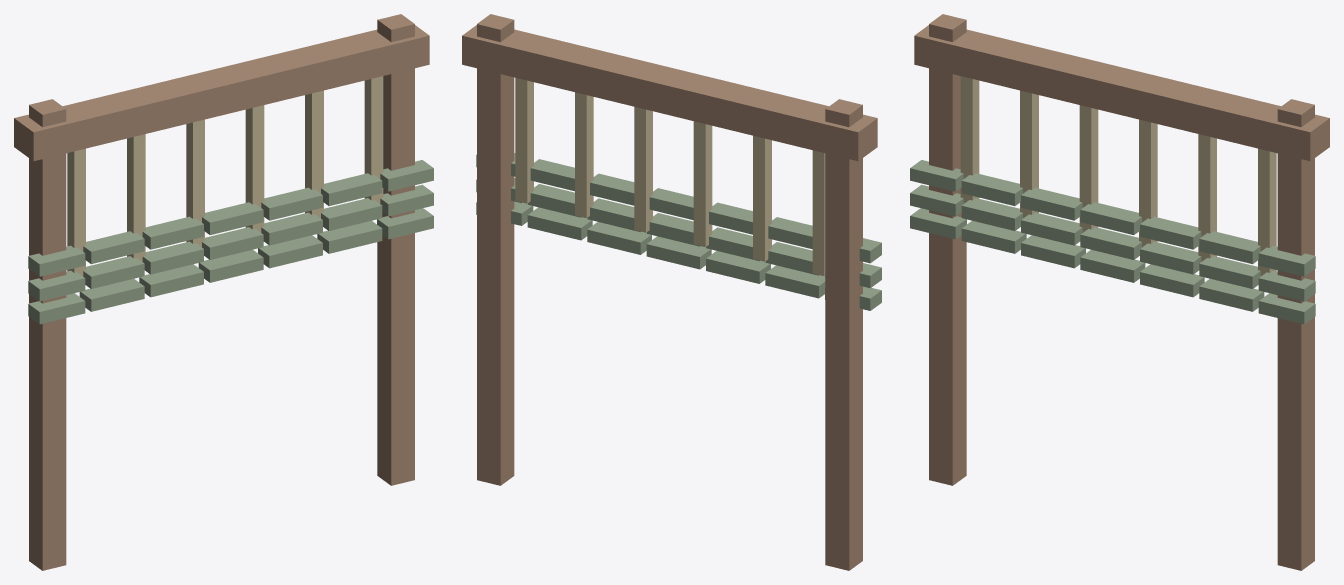
File: herb_drying_rack.glb
The picture shows the model from 3 angles, left to right: view 1: azimuth 30°, elevation 25°; view 2: azimuth 150°, elevation 25°; view 3: azimuth 330°, elevation 25°; orthographic projection.
Parts seen in each view (by area): view 1: box_2, box_0, box_1, box_38, box_24, box_10, box_3, box_31, box_17, box_12, box_7, box_5 (+29 smaller); view 2: box_2, box_0, box_1, box_17, box_10, box_24, box_38, box_31, box_3, box_37, box_9, box_34 (+24 smaller); view 3: box_2, box_1, box_0, box_3, box_17, box_31, box_38, box_10, box_24, box_40, box_44, box_42 (+31 smaller).
Boxes of the visible parts, x1,y1,x2,y2 form: box_2: (14,25,429,161); box_0: (29,99,66,570); box_1: (377,14,414,485); box_38: (364,76,383,203); box_24: (245,105,264,232); box_10: (127,134,145,261); box_3: (67,148,85,276); box_31: (305,90,323,218); box_17: (186,119,204,247); box_12: (142,218,196,249); box_7: (83,257,136,288); box_5: (83,232,136,264); box_2: (462,25,877,161); box_0: (825,99,862,570); box_1: (477,14,514,485); box_17: (693,121,712,247); box_10: (753,135,771,261); box_24: (634,107,652,232); box_38: (515,77,533,203); box_31: (575,92,593,218); box_3: (812,150,825,276); box_37: (535,209,592,240); box_9: (773,267,825,298); box_34: (587,198,634,230); box_2: (914,25,1329,161); box_1: (1277,99,1314,570); box_0: (929,14,966,485); box_3: (960,76,979,203); box_17: (1079,105,1098,232); box_31: (1198,134,1216,261); box_38: (1258,148,1276,276); box_10: (1020,90,1038,218); box_24: (1139,119,1157,247); box_40: (1258,245,1315,276); box_44: (1258,293,1315,324); box_42: (1258,270,1315,301).
Size of the model in its own units: 2 by 2.2 by 0.215.
